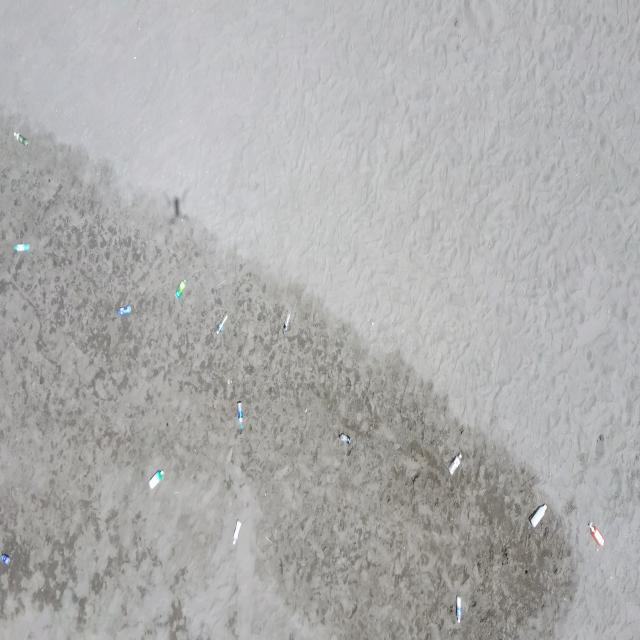plastic-bottle: (528, 502, 548, 528), (148, 467, 164, 489), (448, 452, 463, 475), (591, 523, 605, 545), (232, 518, 242, 546), (175, 278, 187, 300), (216, 312, 228, 334), (13, 132, 28, 148), (12, 241, 30, 254), (456, 595, 464, 624), (238, 401, 245, 431), (283, 311, 292, 333), (118, 304, 132, 318), (0, 552, 12, 567), (339, 432, 352, 445)
